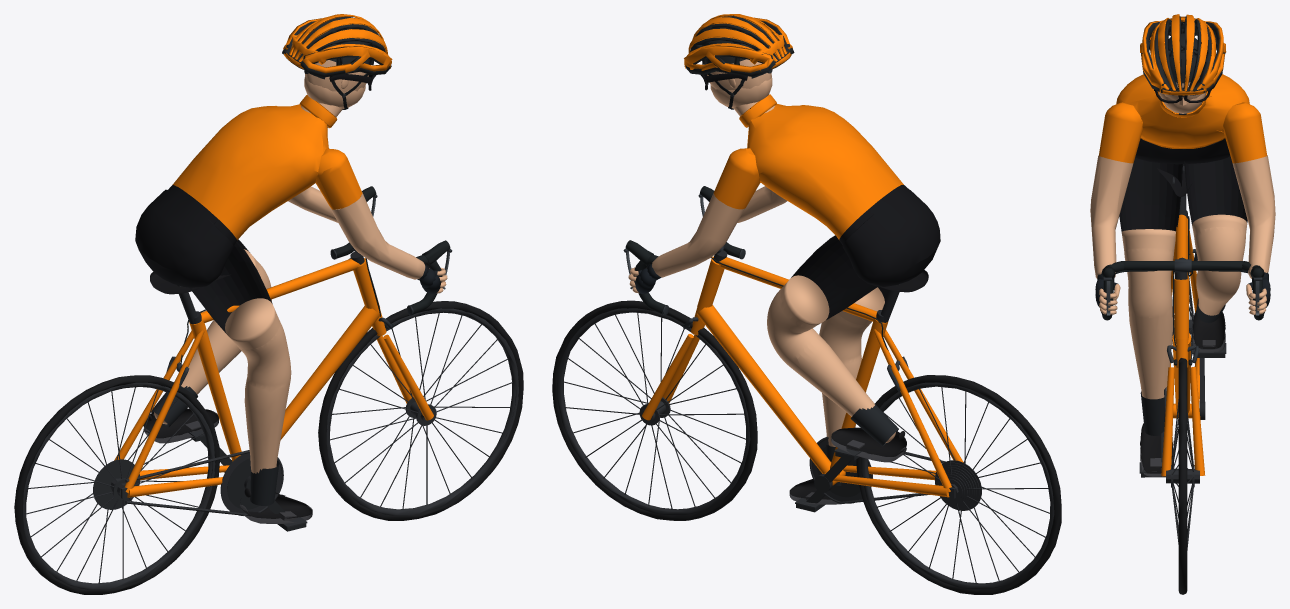
File: rider.glb
The picture shows the model from 3 angles, left to right: view 1: azimuth 30°, elevation 25°; view 2: azimuth 150°, elevation 25°; view 3: azimuth 270°, elevation 25°; orthographic projection.
Visible parts, largest first — view 1: static__Palette, wheelRear__Palette, wheelFront__Palette, legR__Material_5, legR__Rider_black_shorts, crank__Palette, legL__Material_5, footR__Palette, footL__Palette, legR__Rider_black_socks; view 2: static__Palette, wheelRear__Palette, wheelFront__Palette, legL__Material_5, legR__Material_5, legL__Rider_black_shorts, footL__Palette, crank__Palette, legL__Rider_black_socks; view 3: static__Palette, legR__Material_5, legL__Material_5, legR__Rider_black_shorts, wheelFront__Palette, legL__Rider_black_shorts, footL__Palette, footR__Palette, legR__Rider_black_socks, crank__Palette, pedalL__Palette, wheelRear__Palette.
Part boxes in pixels (left/top/right/bottom): static__Palette: left=114, top=14, right=452, bottom=516; wheelRear__Palette: left=14, top=375, right=219, bottom=594; wheelFront__Palette: left=318, top=301, right=523, bottom=520; legR__Material_5: left=225, top=298, right=291, bottom=473; legR__Rider_black_shorts: left=189, top=241, right=272, bottom=333; crank__Palette: left=200, top=439, right=284, bottom=515; legL__Material_5: left=154, top=249, right=271, bottom=424; footR__Palette: left=239, top=488, right=312, bottom=523; footL__Palette: left=143, top=408, right=218, bottom=443; legR__Rider_black_socks: left=250, top=460, right=278, bottom=505; static__Palette: left=623, top=14, right=963, bottom=503; wheelRear__Palette: left=856, top=375, right=1061, bottom=594; wheelFront__Palette: left=552, top=300, right=757, bottom=520; legL__Material_5: left=767, top=275, right=895, bottom=442; legR__Material_5: left=819, top=287, right=884, bottom=446; legL__Rider_black_shorts: left=791, top=235, right=877, bottom=319; footL__Palette: left=831, top=427, right=906, bottom=462; crank__Palette: left=806, top=436, right=872, bottom=503; legL__Rider_black_socks: left=850, top=403, right=898, bottom=446; static__Palette: left=1090, top=14, right=1275, bottom=476; legR__Material_5: left=1121, top=229, right=1175, bottom=399; legL__Material_5: left=1192, top=214, right=1247, bottom=315; legR__Rider_black_shorts: left=1119, top=141, right=1182, bottom=231; wheelFront__Palette: left=1166, top=358, right=1199, bottom=594; legL__Rider_black_shorts: left=1184, top=141, right=1247, bottom=225; footL__Palette: left=1192, top=311, right=1225, bottom=352; footR__Palette: left=1140, top=423, right=1173, bottom=476; legR__Rider_black_socks: left=1140, top=391, right=1164, bottom=435; crank__Palette: left=1161, top=358, right=1205, bottom=462; pedalL__Palette: left=1192, top=343, right=1226, bottom=357; wheelRear__Palette: left=1172, top=210, right=1194, bottom=366.
Bounding box in the file's own units: 1.67 × 1.63 × 0.5224.
Materials: 1 (1 with a texture image).
